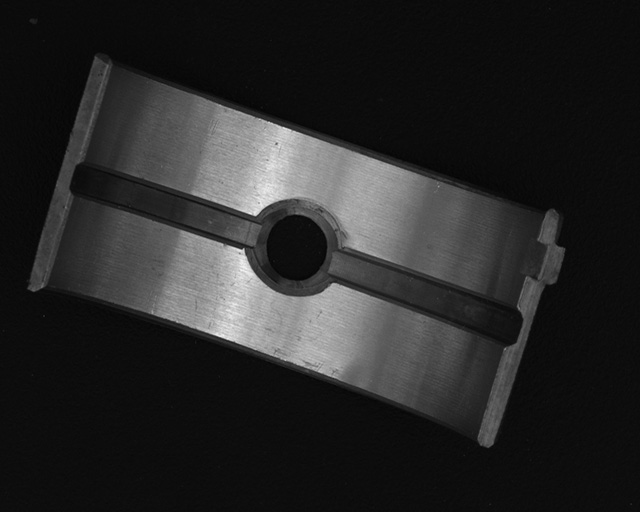gap: (331, 247, 515, 343), (69, 163, 257, 248)
hole: (250, 198, 340, 296)
